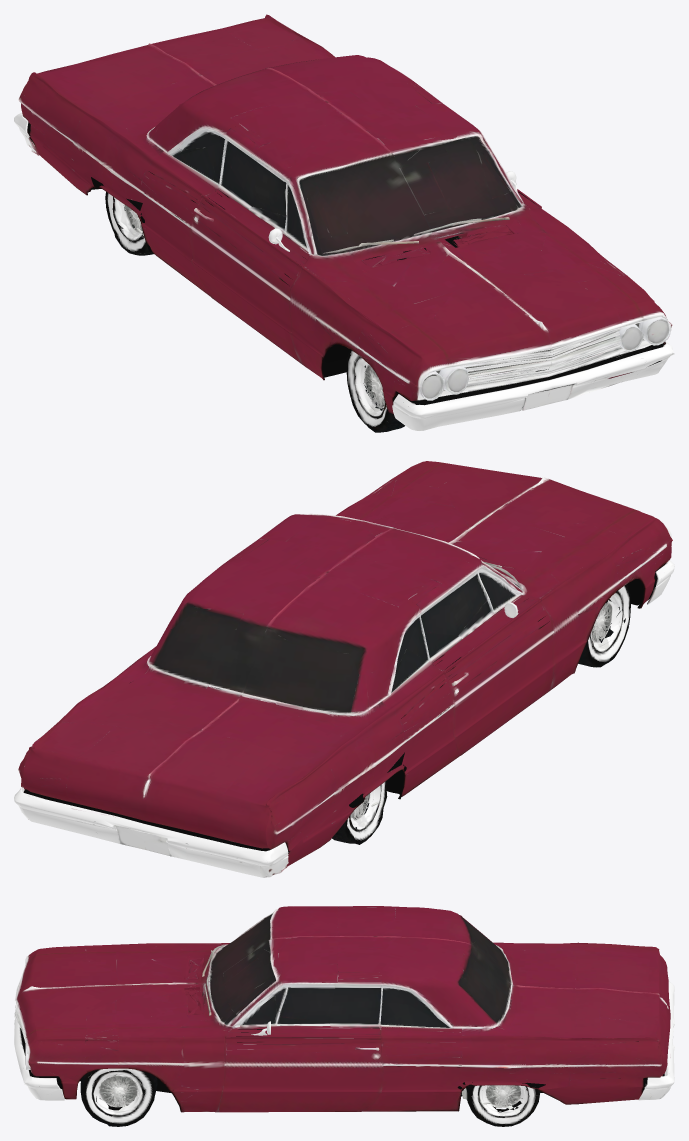
File: lowrider-v1.glb
3 renders of one model, top to bottom at view 1: azimuth 30°, elevation 25°; view 2: azimuth 150°, elevation 25°; view 3: azimuth 270°, elevation 25°, orthographic. The views are drawn at different scales.
Visible parts, largest first — view 1: body, wheel_fl_mesh, wheel_rl_mesh; view 2: body, wheel_fl_mesh, wheel_rl_mesh; view 3: body, wheel_fr_mesh, wheel_rr_mesh.
Part boxes in pixels (x1,y1,x2,y2): body: (14, 14, 674, 430); wheel_fl_mesh: (346, 349, 404, 432); wheel_rl_mesh: (105, 192, 153, 255); body: (14, 461, 674, 877); wheel_fl_mesh: (578, 584, 630, 667); wheel_rl_mesh: (332, 780, 387, 844); body: (14, 906, 674, 1112); wheel_fr_mesh: (80, 1068, 157, 1126); wheel_rr_mesh: (462, 1085, 540, 1126).
Bounding box in the file's own units: 0.3549 × 0.2309 × 0.9507.
Materials: 1 (1 with a texture image).
